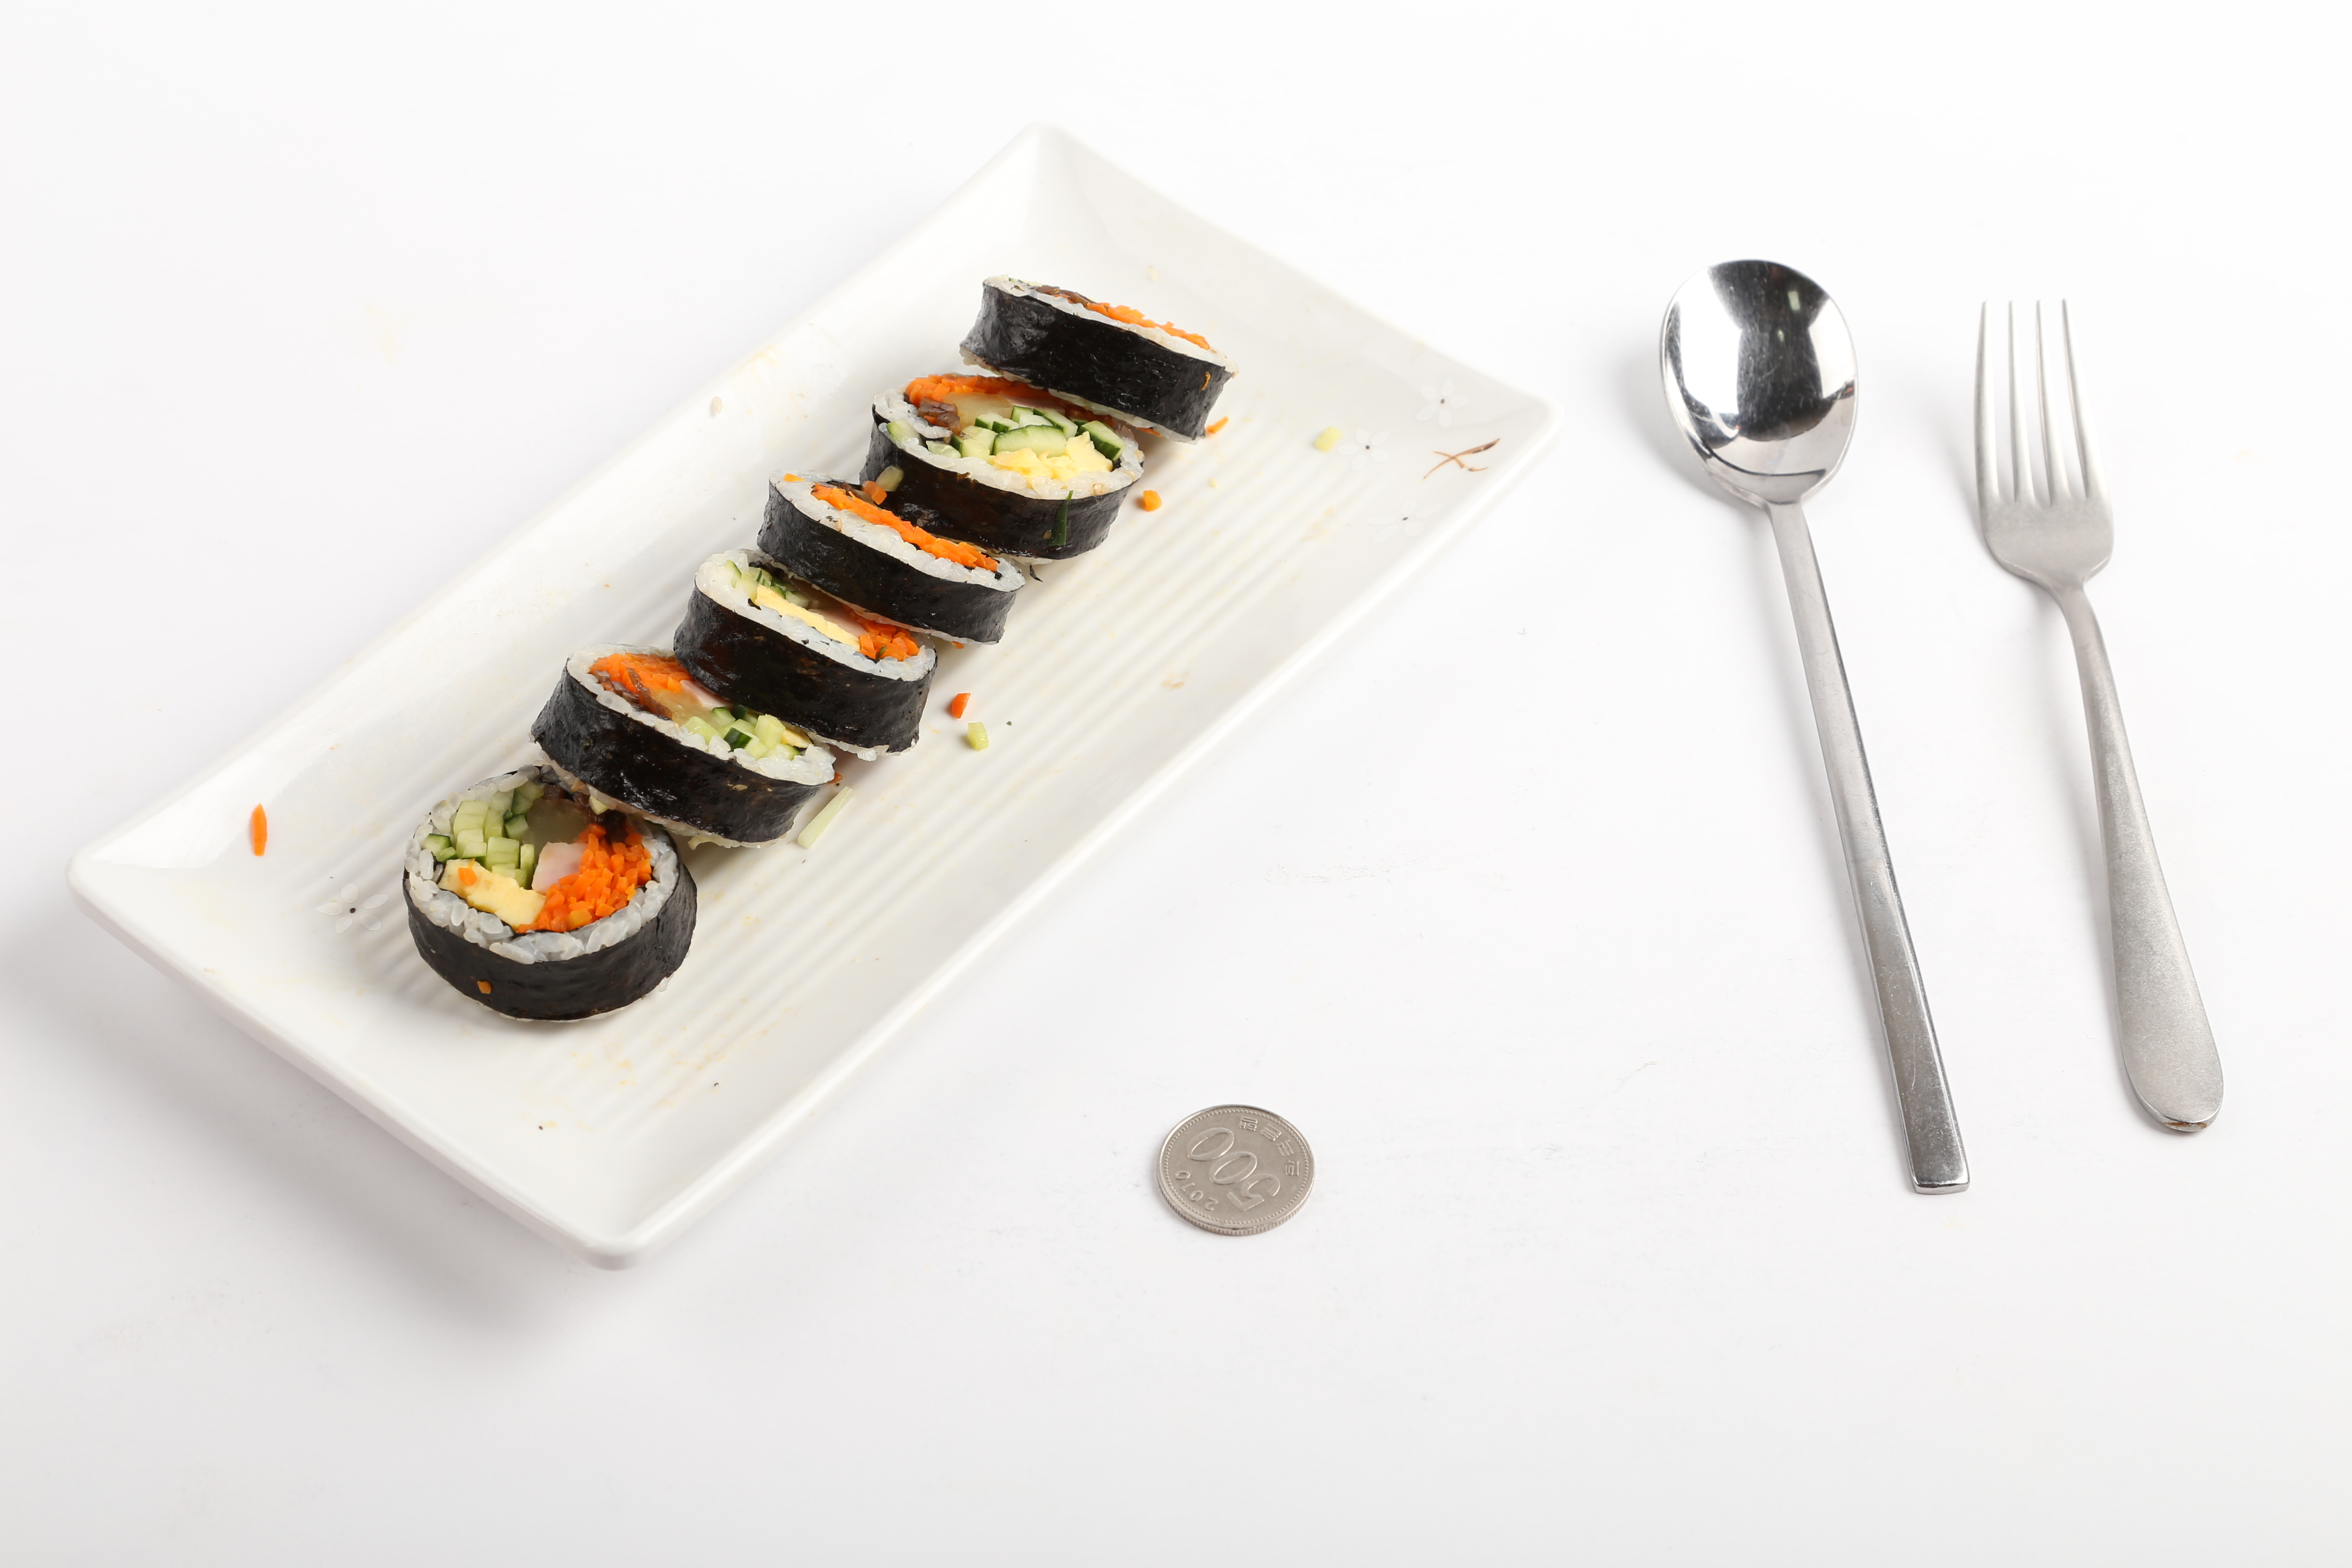dish: (72, 107, 1564, 1267)
ref_coin: (1150, 1092, 1318, 1248)
ref_fork: (1969, 296, 2117, 646)
ref_spoon: (1652, 255, 1869, 619)
김밥: (395, 266, 1235, 1029)
